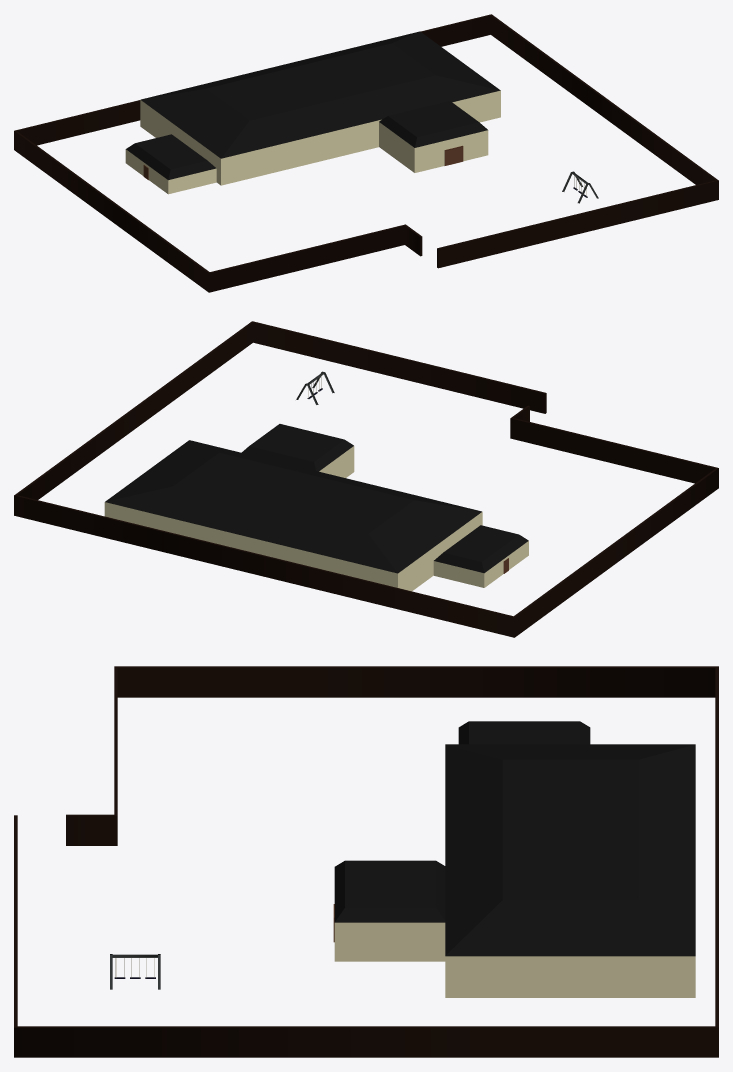
Rendered from level1_pro.FBX.
3 views of the same model, one above another, from view 1: azimuth 30°, elevation 25°; view 2: azimuth 150°, elevation 25°; view 3: azimuth 270°, elevation 25° (orthographic). The views are drawn at different scales.
Parts seen in each view (by area): view 1: Box001, Loft001, Object002, Object001; view 2: Loft001, Box001, Object001, Object002; view 3: Box001, Loft001, Object002, Object001.
Boxes of the visible parts, x1,y1,x2,y2 form: Box001: [140, 31, 500, 185]; Loft001: [14, 14, 718, 292]; Object002: [379, 101, 488, 172]; Object001: [125, 134, 216, 194]; Loft001: [14, 321, 718, 637]; Box001: [104, 440, 482, 591]; Object001: [433, 525, 528, 587]; Object002: [241, 424, 354, 477]; Box001: [445, 744, 695, 997]; Loft001: [14, 666, 718, 1057]; Object002: [334, 860, 445, 961]; Object001: [458, 721, 590, 744].
Size of the model in its own units: 171 by 13.64 by 141.
